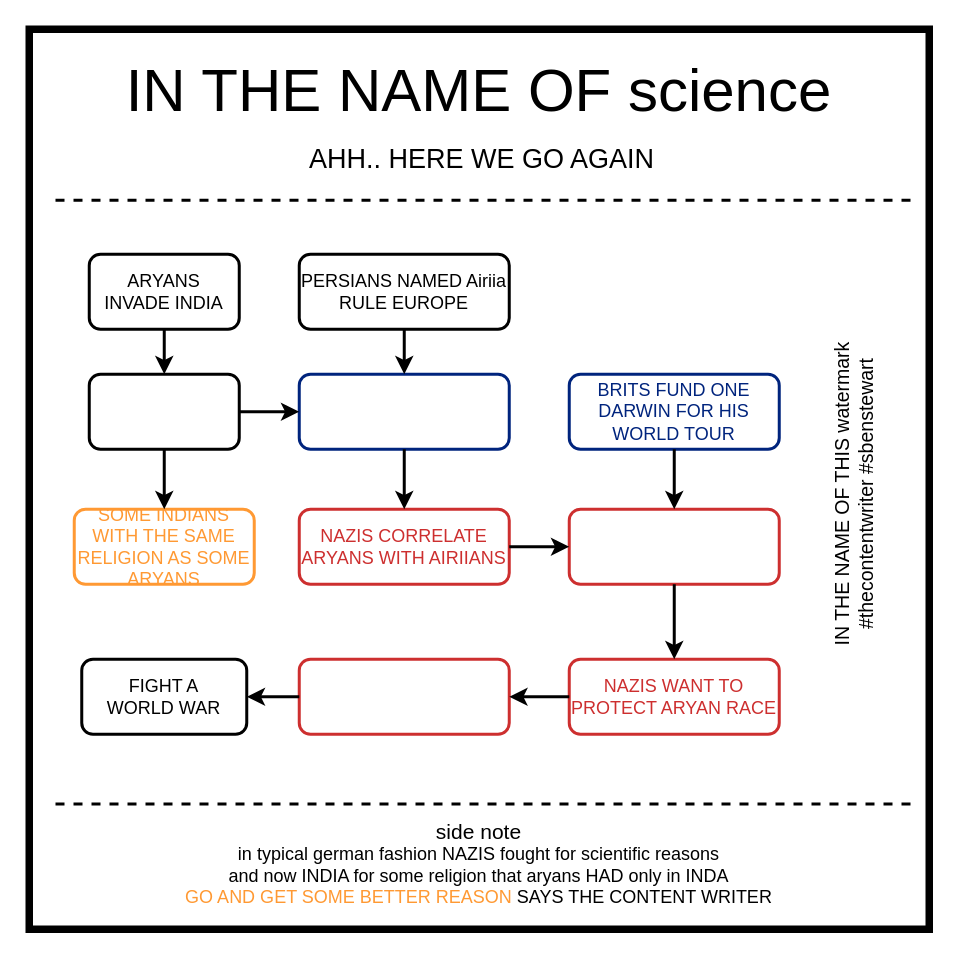
The diagram is 959 pixels wide and 959 high, and some of its shapes have lost their labels. The shapes that lost their labels are listed below. From the top down, each one's centre as x and y in pixels, then its label:
At pixel 163 411: "ARYANS FORGET WHO THEY ARE".
At pixel 403 411: "BRITS FUND A PROJECT THAT FINDS THIS".
At pixel 673 546: "NAZIS BELIVE IN THAT DARWIN'S THEORY".
At pixel 403 696: "NAZIS NAME ARYANS AS SUPERIOR RACE".
